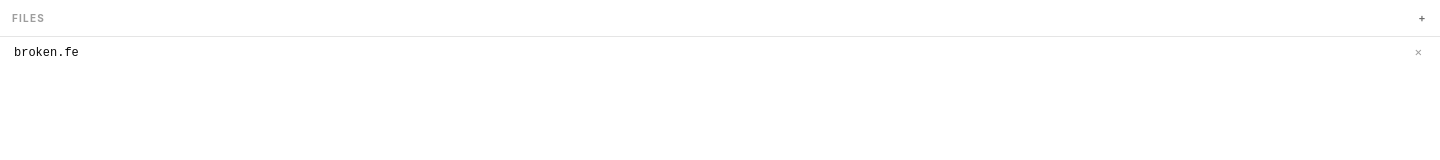
Test: FilePane › surfaces a load failure as a per-file error, not a thrown exception
Click the button "broken.fe".
click(46, 53)  # box 14,41 -> 1407,65
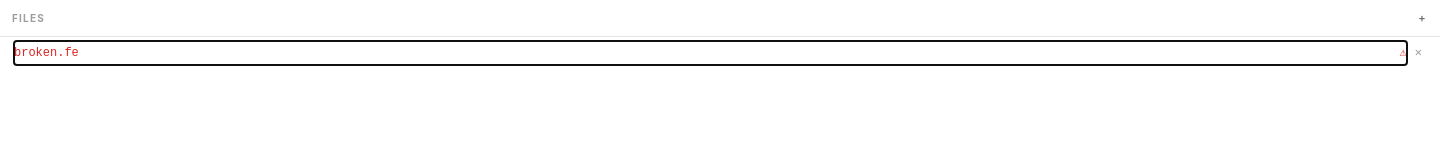
Check: the text "⚠" is shown, box 1400,47 -> 1407,59
